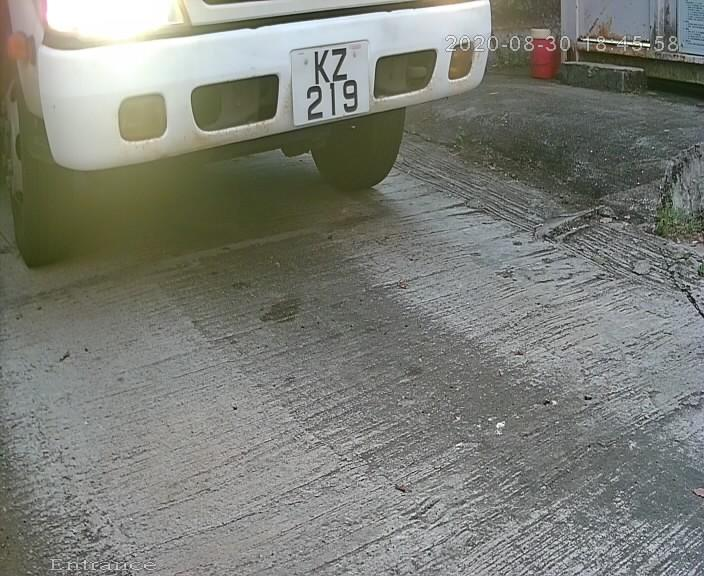License Plate: (271, 24, 387, 145)
